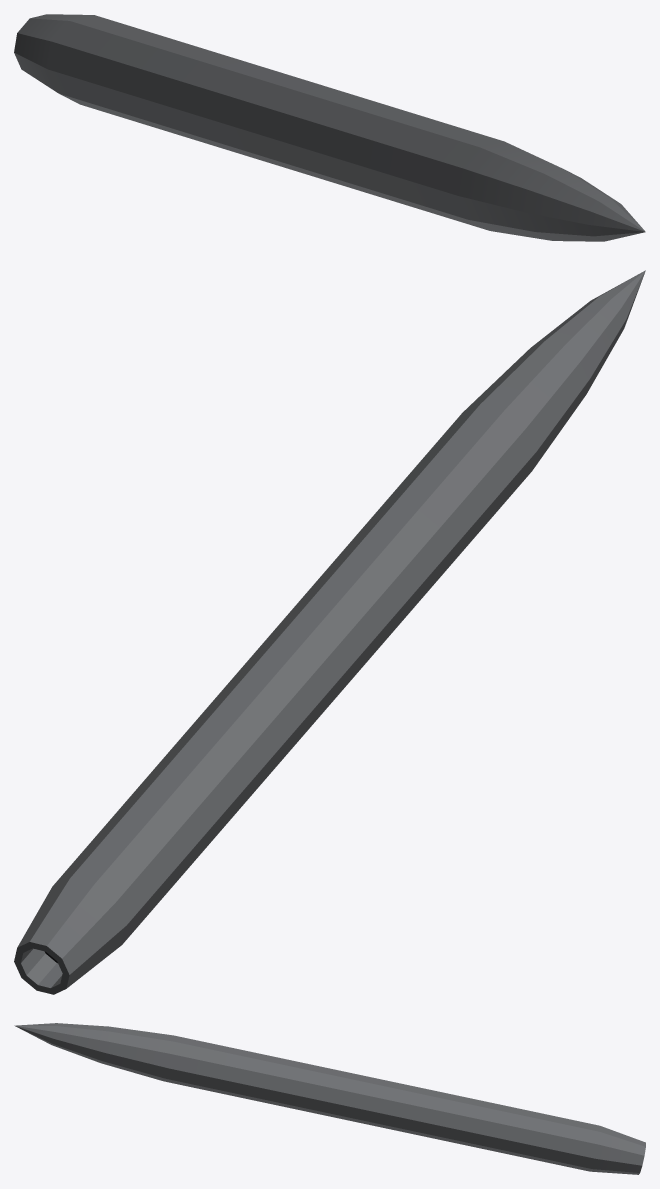
The model's file is SM_Prop_Missle_Launcher_01_Missle_1.glb.
The picture shows the model from 3 angles, top to bottom: view 1: azimuth 30°, elevation 25°; view 2: azimuth 150°, elevation 25°; view 3: azimuth 270°, elevation 25°; orthographic projection. The views are drawn at different scales.
Visible parts, largest first — view 1: SM_Prop_Missle_Launcher_01_Missle_1; view 2: SM_Prop_Missle_Launcher_01_Missle_1; view 3: SM_Prop_Missle_Launcher_01_Missle_1.
Boxes of the visible parts, <box> form: SM_Prop_Missle_Launcher_01_Missle_1: <box>14,14,645,241</box>; SM_Prop_Missle_Launcher_01_Missle_1: <box>14,270,645,994</box>; SM_Prop_Missle_Launcher_01_Missle_1: <box>14,1023,645,1174</box>.
Size of the model in its own units: 0.3691 by 1.27 by 4.93.
Materials: 1 (1 with a texture image).
